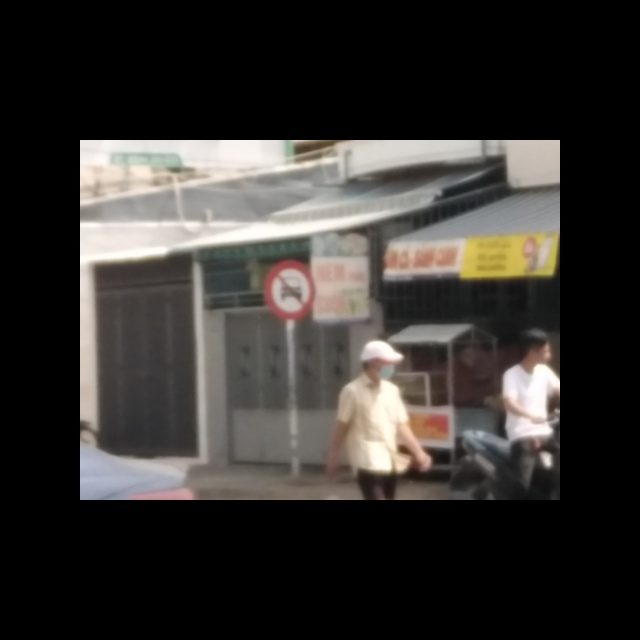Cấm xe ô tô: (263, 259, 318, 322)
